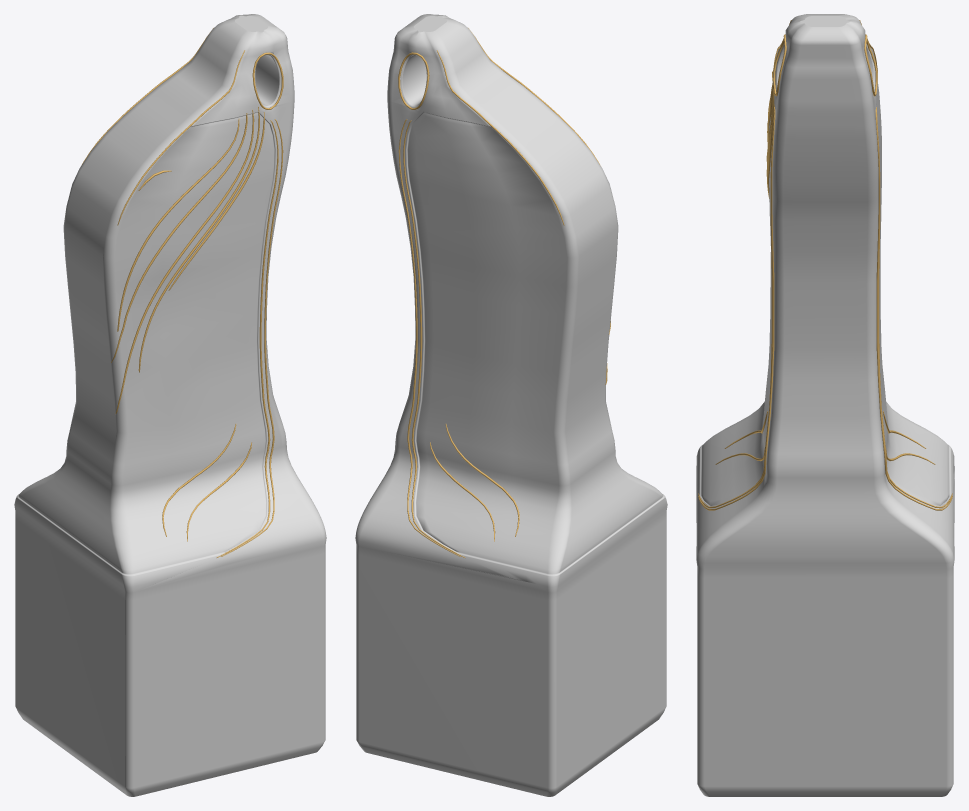
The model's file is QingGuiR02B_GeometryCandidate.fbx.
The picture shows the model from 3 angles, left to right: view 1: azimuth 30°, elevation 25°; view 2: azimuth 150°, elevation 25°; view 3: azimuth 270°, elevation 25°; orthographic projection. The views are drawn at different scales.
Parts seen in each view (by area): view 1: QingGuiR02_Body_LOD0, QingGuiR02_GoldWire_LOD0; view 2: QingGuiR02_Body_LOD0, QingGuiR02_GoldWire_LOD0; view 3: QingGuiR02_Body_LOD0, QingGuiR02_GoldWire_LOD0.
Boxes of the visible parts, <box> form: QingGuiR02_Body_LOD0: <box>14,14,326,796</box>; QingGuiR02_GoldWire_LOD0: <box>82,28,283,557</box>; QingGuiR02_Body_LOD0: <box>355,14,667,796</box>; QingGuiR02_GoldWire_LOD0: <box>398,28,610,557</box>; QingGuiR02_Body_LOD0: <box>696,14,954,796</box>; QingGuiR02_GoldWire_LOD0: <box>698,20,952,510</box>.
Bounding box in the file's own units: 11 × 35 × 10.68.
